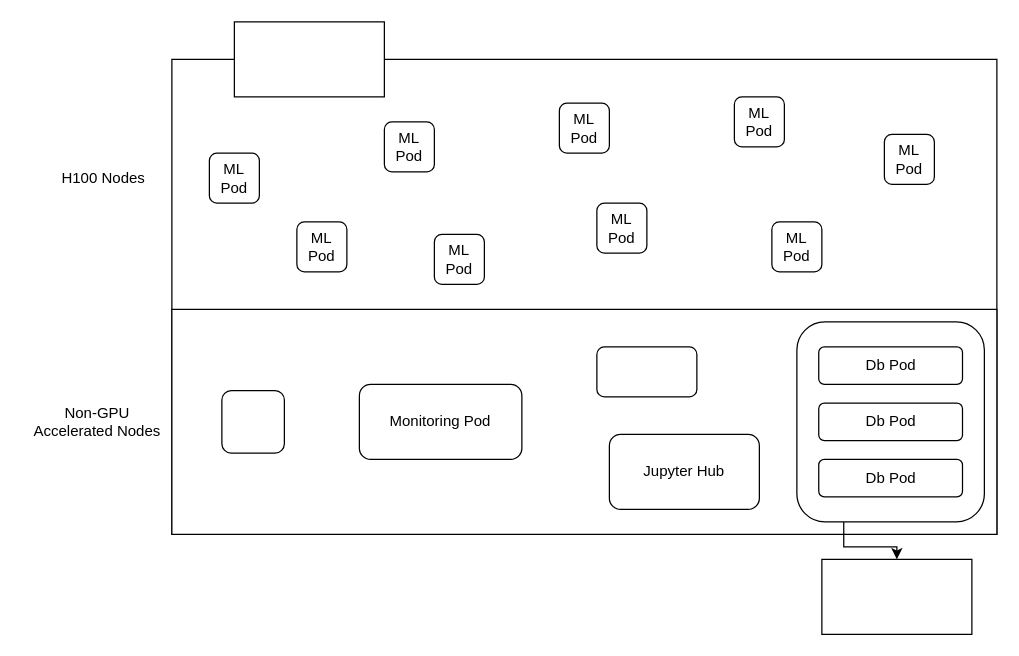
Some shapes in this 1019 by 656 pixel diagram are drawn without their labels. The centre of each missing label's shape, as x and y in pixels:
"IAM Pod" belongs at point (646, 371).
"K8s Data Plane" belongs at point (308, 59).
"Storage" belongs at point (896, 596).
"VPN Pod" belongs at point (252, 421).
